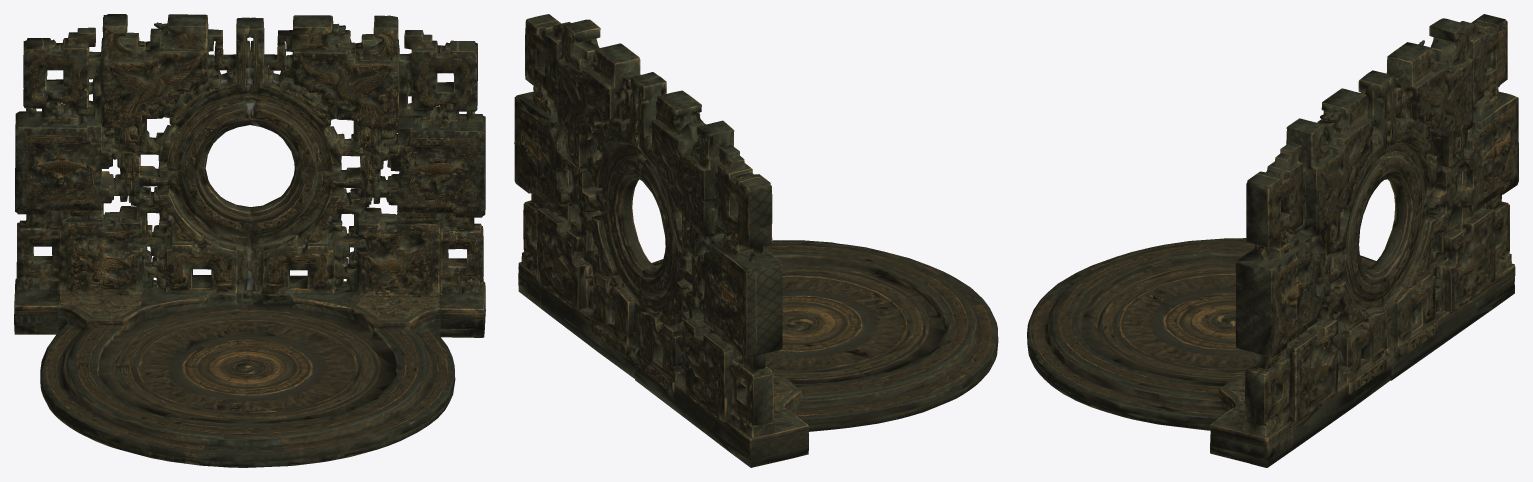
The model's file is 08-bronze-pattern.glb.
The picture shows the model from 3 angles, left to right: view 1: azimuth 30°, elevation 25°; view 2: azimuth 150°, elevation 25°; view 3: azimuth 270°, elevation 25°; orthographic projection. The views are drawn at different scales.
Parts seen in each view (by area): view 1: Meshy_AI_Jade_Sun_Gate_0817192554_texture; view 2: Meshy_AI_Jade_Sun_Gate_0817192554_texture; view 3: Meshy_AI_Jade_Sun_Gate_0817192554_texture.
Boxes of the visible parts, bbox=[...] form: Meshy_AI_Jade_Sun_Gate_0817192554_texture: bbox=[14, 14, 485, 467]; Meshy_AI_Jade_Sun_Gate_0817192554_texture: bbox=[514, 14, 998, 467]; Meshy_AI_Jade_Sun_Gate_0817192554_texture: bbox=[1027, 14, 1518, 467].
Size of the model in its own units: 1.08 by 0.6993 by 1.03.
Materials: 1 (1 with a texture image).
